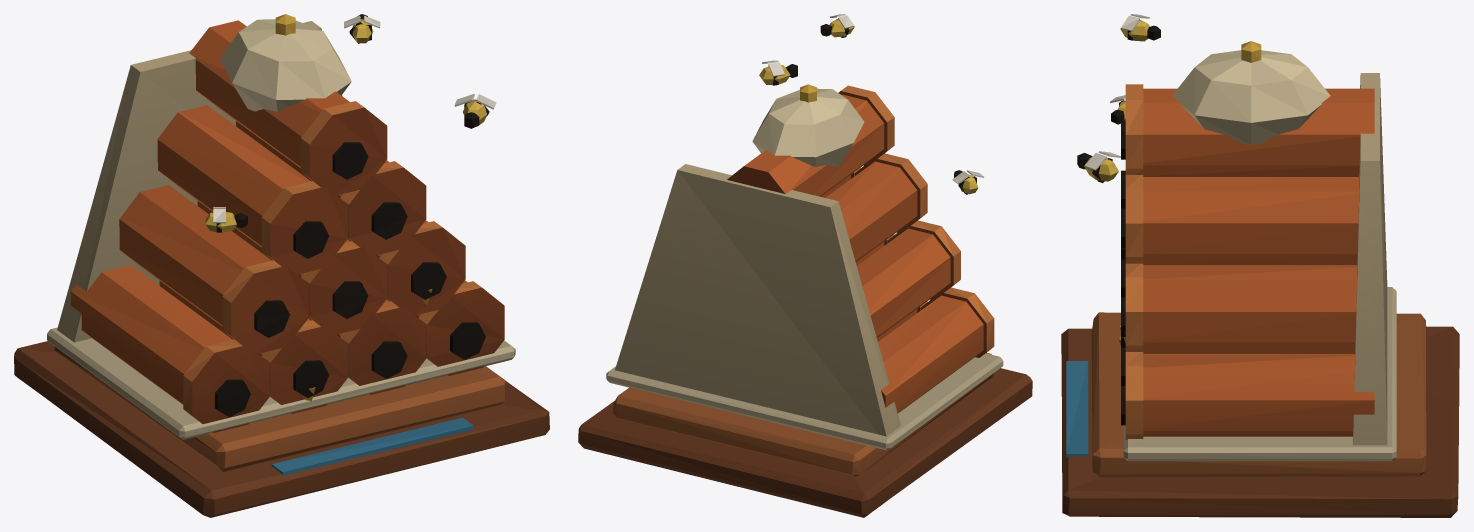
File: great_clay_hive.glb
3 views of the same model, side by side, from view 1: azimuth 30°, elevation 25°; view 2: azimuth 150°, elevation 25°; view 3: azimuth 270°, elevation 25° (orthographic). The views are drawn at different scales.
Parts seen in each view (by area): view 1: great_clay_hive; view 2: great_clay_hive; view 3: great_clay_hive.
Boxes of the visible parts, <box> form: great_clay_hive: <box>14,14,549,517</box>; great_clay_hive: <box>578,14,1032,517</box>; great_clay_hive: <box>1061,14,1459,517</box>.
Bounding box in the file's own units: 0.9064 × 1.08 × 0.9047.
